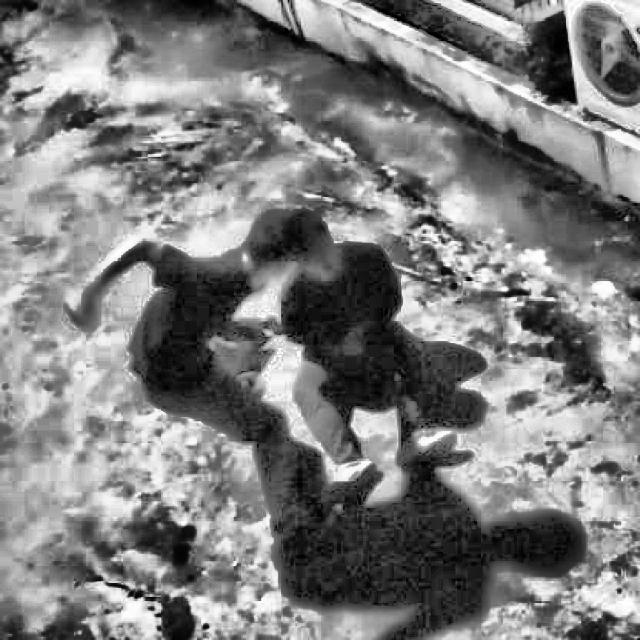robbery: (59, 188, 496, 626)
